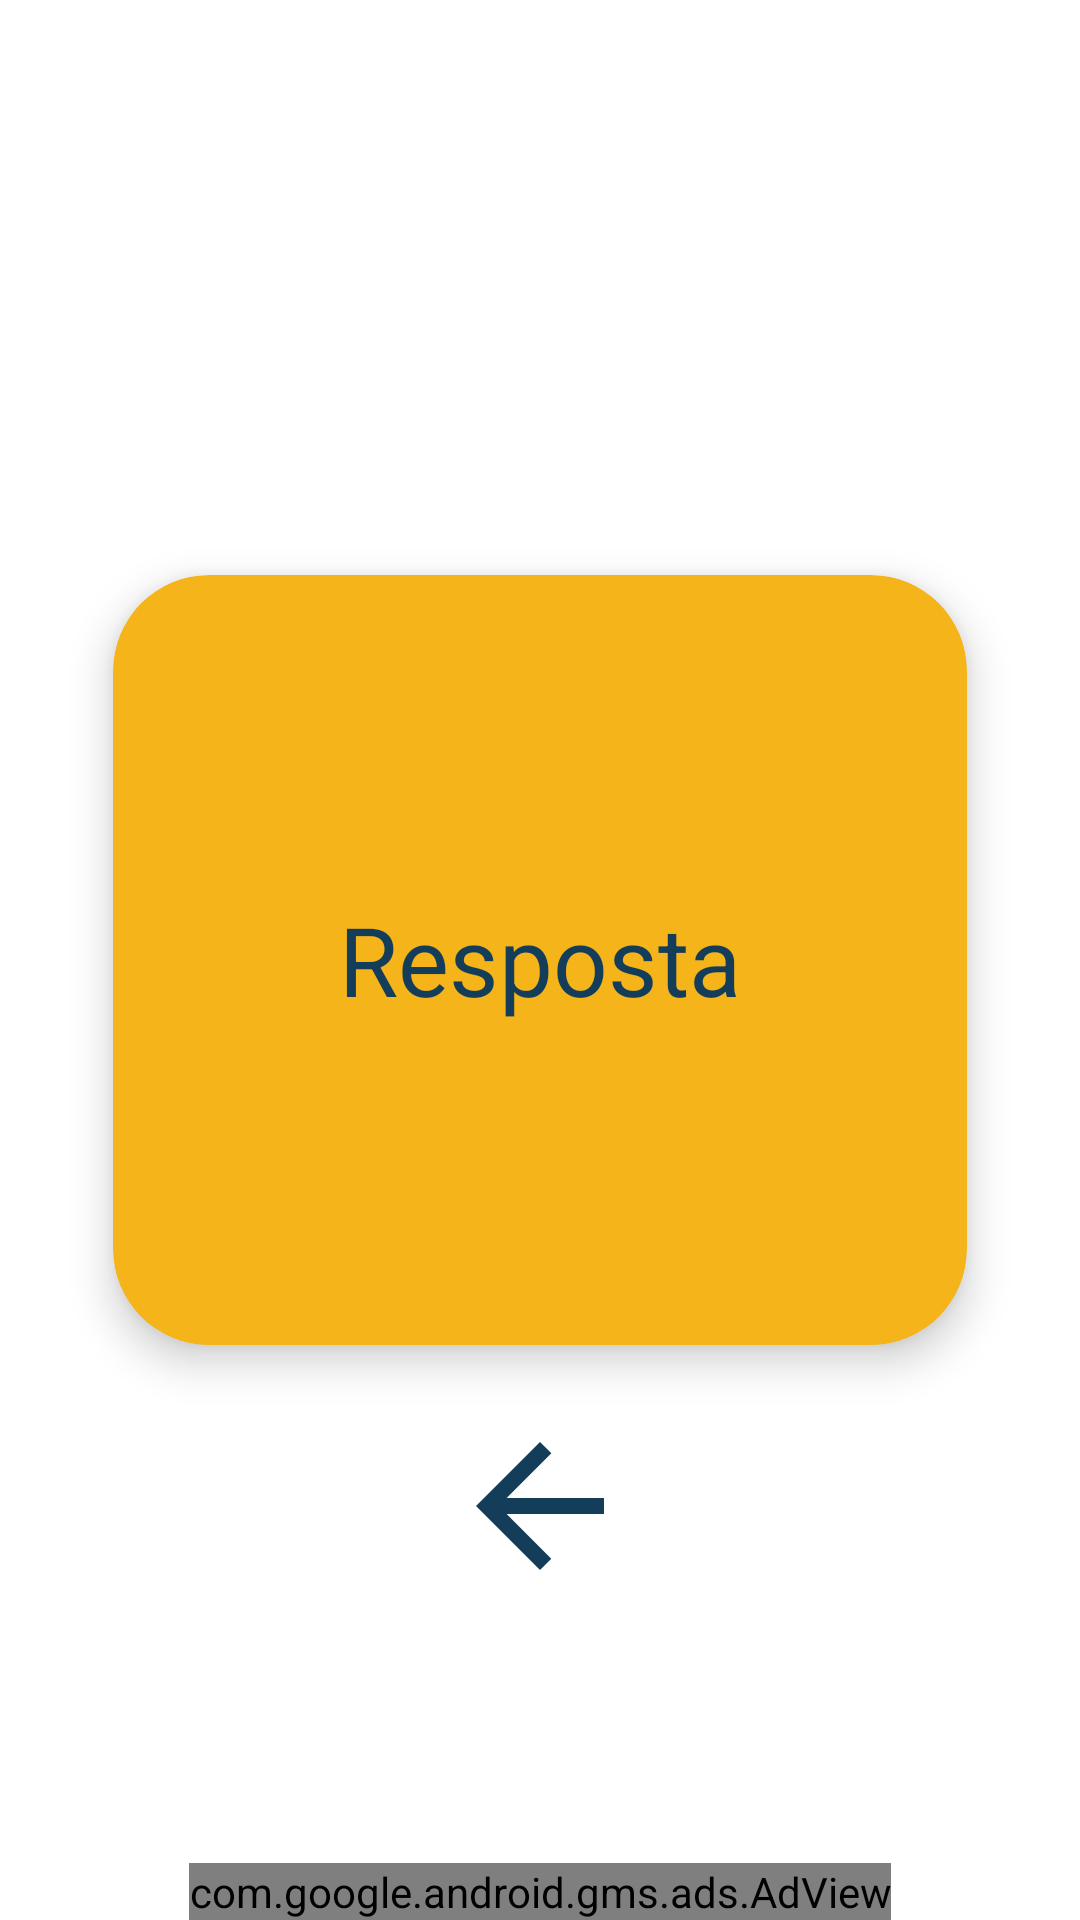

Icon click points for this 1080px x 1920px phone screenshot, format [x,y]:
arrow back: [540,1506]
